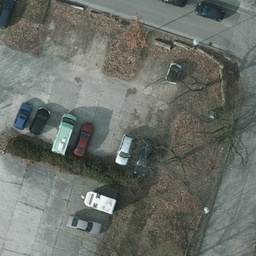car: (53, 113, 75, 155), (75, 121, 94, 158), (134, 142, 154, 176), (65, 217, 102, 234), (115, 135, 134, 167), (196, 4, 226, 21), (14, 103, 32, 130), (31, 109, 49, 136), (1, 1, 16, 30), (165, 63, 184, 84)
